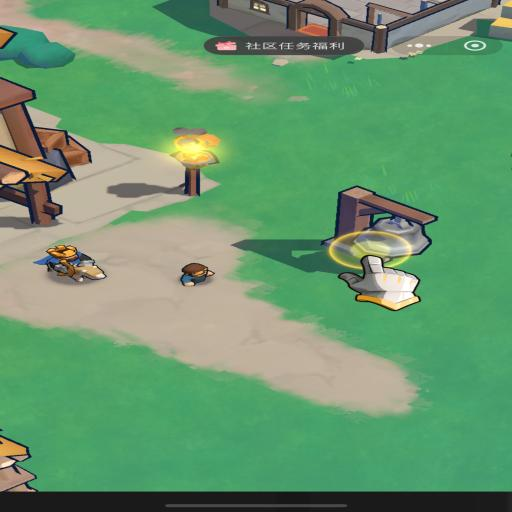newcomer_hand: (338, 254, 422, 310)
